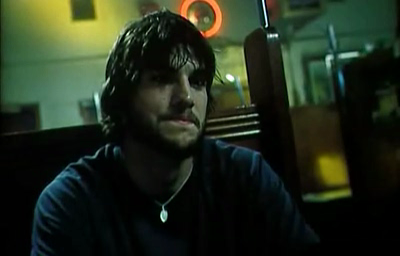face: (140, 55, 208, 151)
mcu: (1, 1, 400, 256)
person: (31, 6, 298, 256)
